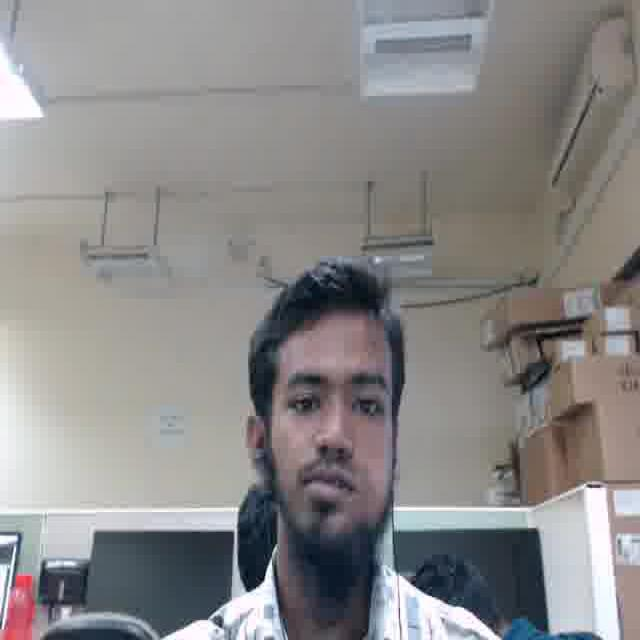Engaged: (270, 324, 394, 537)
